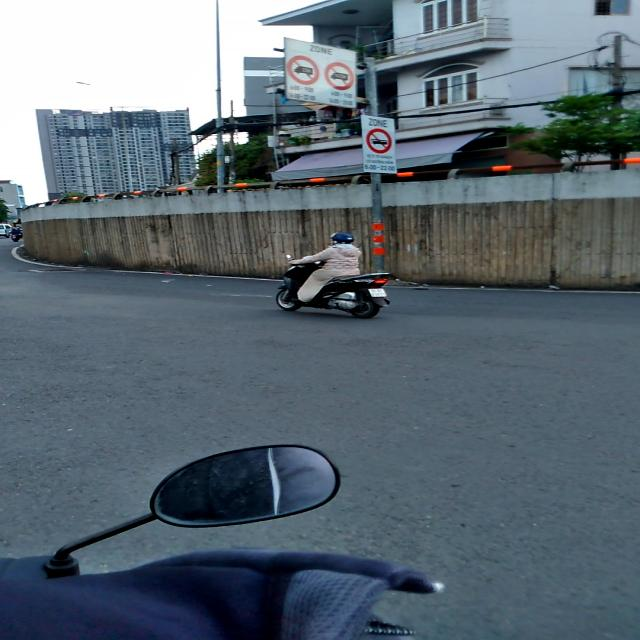P.106b: (286, 55, 320, 85), (324, 61, 354, 90)
P.107a: (366, 128, 392, 154)
